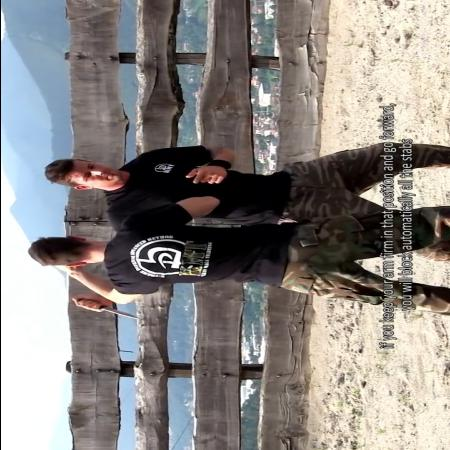long weapon: (66, 296, 145, 326)
